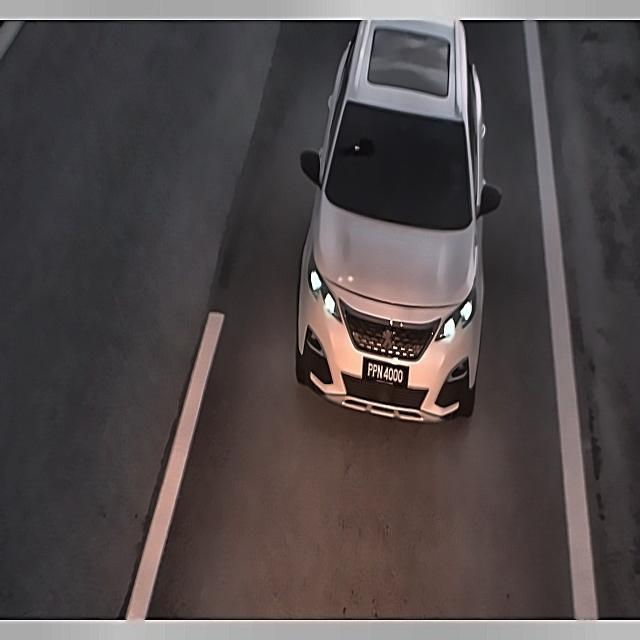car: (356, 349, 415, 392)
